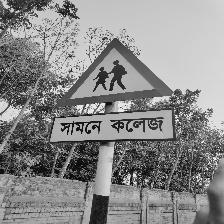College-in-front: (46, 23, 183, 158)
